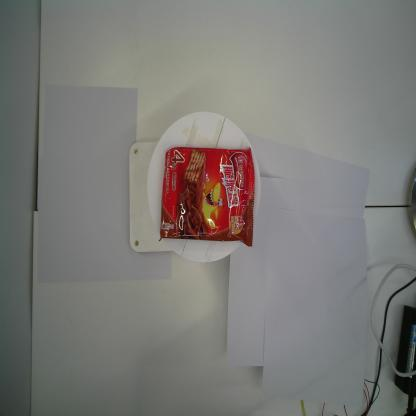Dessert: (158, 146, 256, 247)
